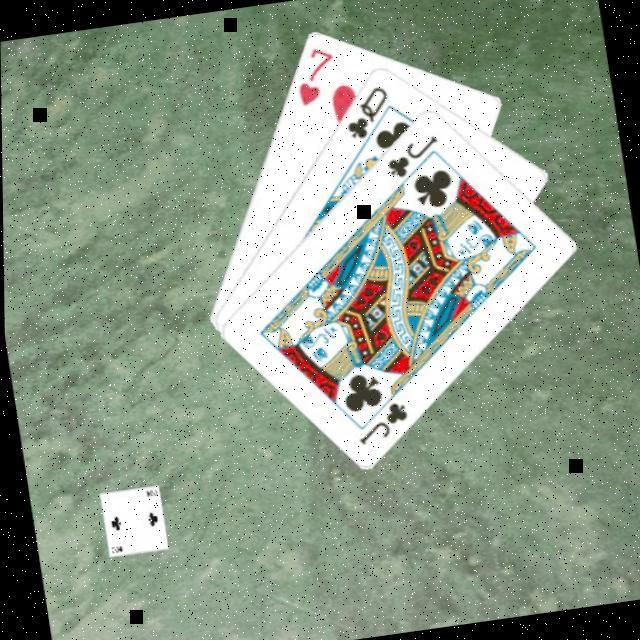7H: (286, 44, 341, 112)
JC: (378, 133, 445, 185), (347, 398, 413, 450)
QC: (336, 84, 396, 147)
